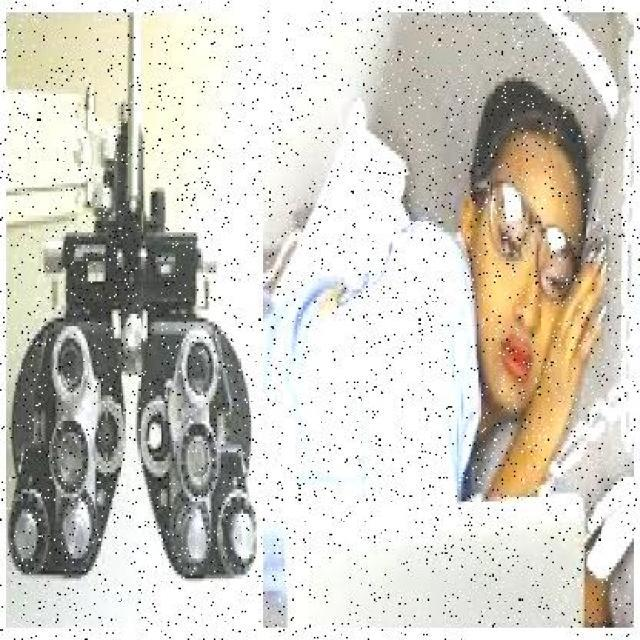glasses: (484, 158, 578, 306)
